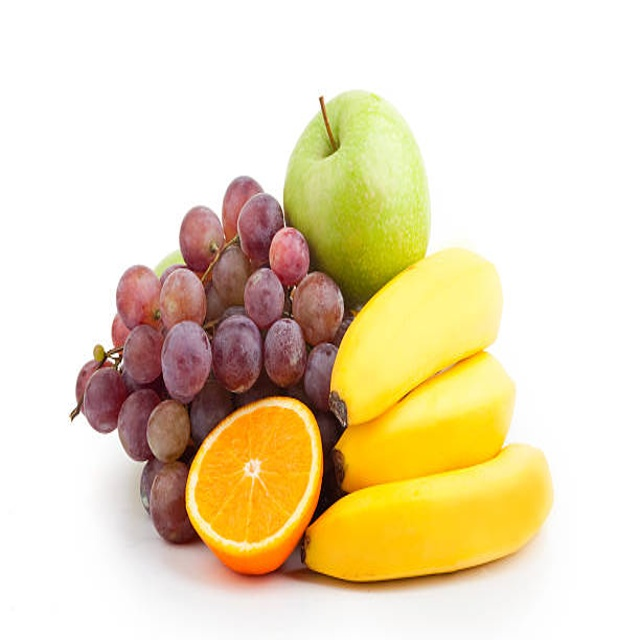apple: (279, 91, 433, 240)
banana: (335, 253, 567, 583)
orange: (194, 407, 312, 571)
